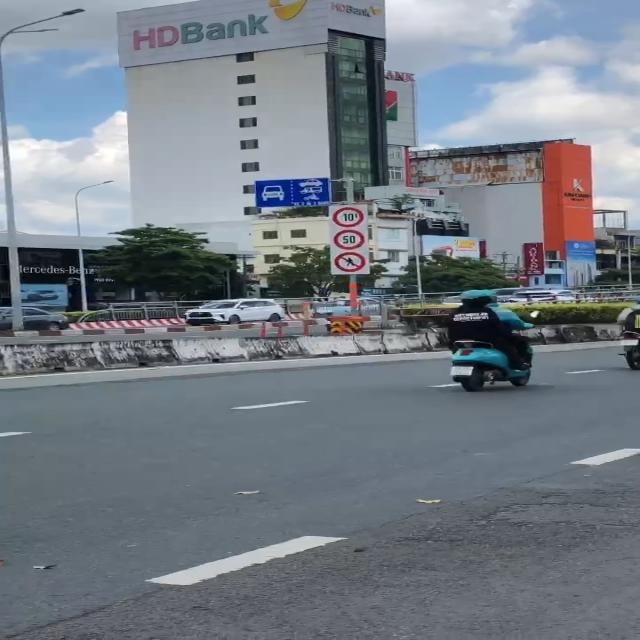Bien bao cam nguoi di bo: (334, 250, 371, 273)
Bien bao toc do toi da cho phep: (333, 228, 367, 250)
